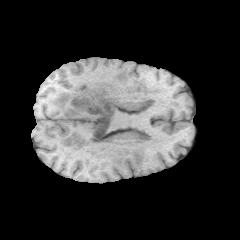glioma: (49, 67, 181, 169)
